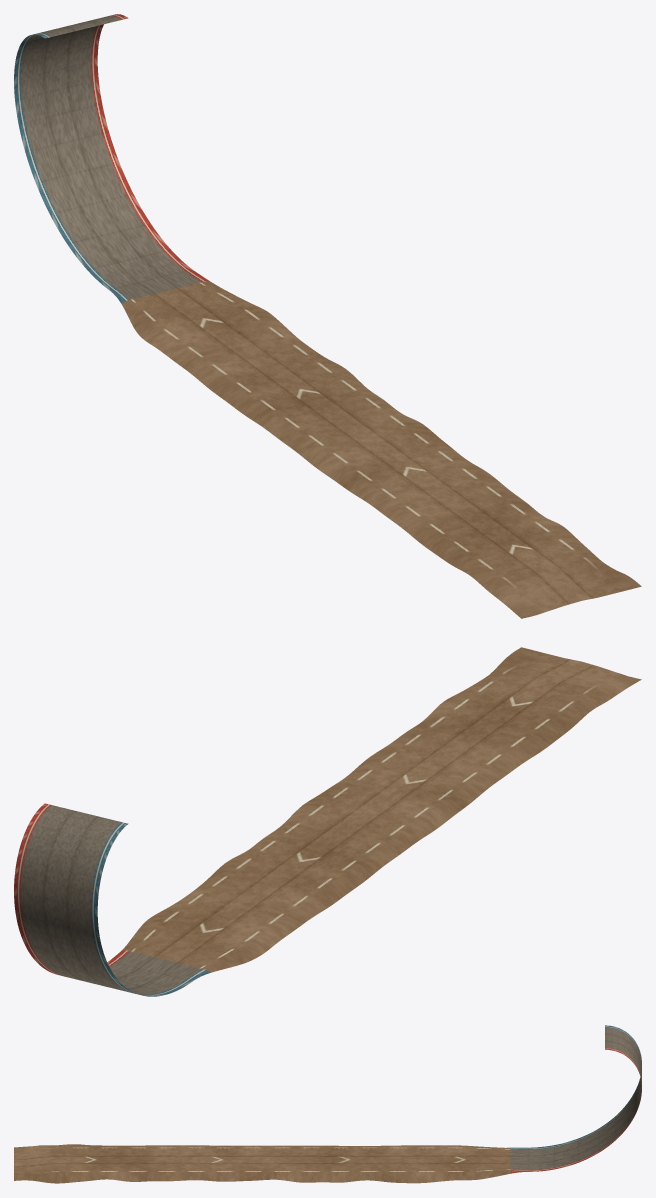
File: VerticalHalfLoop.obj
3 renders of one model, top to bottom at view 1: azimuth 30°, elevation 25°; view 2: azimuth 150°, elevation 25°; view 3: azimuth 270°, elevation 25°, orthographic. The views are drawn at different scales.
Parts seen in each view (by area): view 1: VerticalHalfLoop; view 2: VerticalHalfLoop; view 3: VerticalHalfLoop.
Boxes of the visible parts, x1,y1,x2,y2 form: VerticalHalfLoop: [14, 14, 641, 618]; VerticalHalfLoop: [14, 647, 641, 996]; VerticalHalfLoop: [14, 1025, 641, 1183].
Size of the model in its own units: 14.4 by 24.53 by 109.
1 material, 1 textured.
